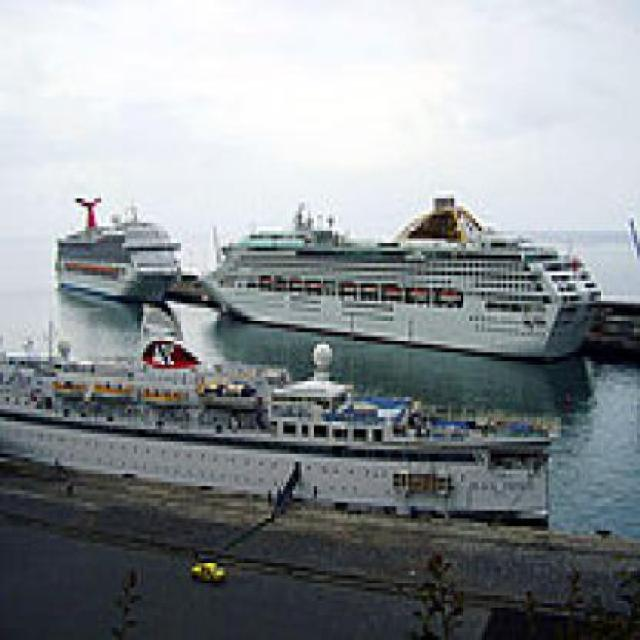cruise: (196, 192, 614, 373), (53, 180, 202, 314)
